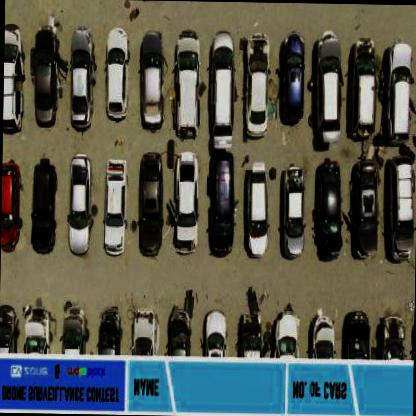car: (346, 155, 378, 260), (386, 148, 415, 261), (312, 158, 343, 260), (64, 23, 94, 128), (208, 28, 234, 146), (315, 29, 342, 142), (136, 31, 165, 129), (208, 152, 236, 253), (137, 150, 164, 254), (172, 152, 199, 254), (30, 25, 57, 127), (173, 29, 199, 134), (242, 32, 268, 136), (349, 36, 376, 136), (29, 159, 58, 252), (383, 42, 411, 134), (276, 31, 304, 119), (102, 156, 127, 254), (67, 156, 92, 253), (104, 28, 130, 121), (3, 22, 24, 132), (245, 165, 269, 256), (283, 162, 305, 258), (0, 162, 22, 249), (343, 310, 370, 356), (22, 307, 48, 353), (272, 310, 298, 356), (96, 308, 121, 354), (310, 314, 336, 357), (166, 308, 190, 354), (63, 302, 84, 352), (204, 308, 226, 355), (130, 310, 154, 353), (382, 314, 406, 356), (238, 312, 260, 356), (0, 301, 14, 349)
